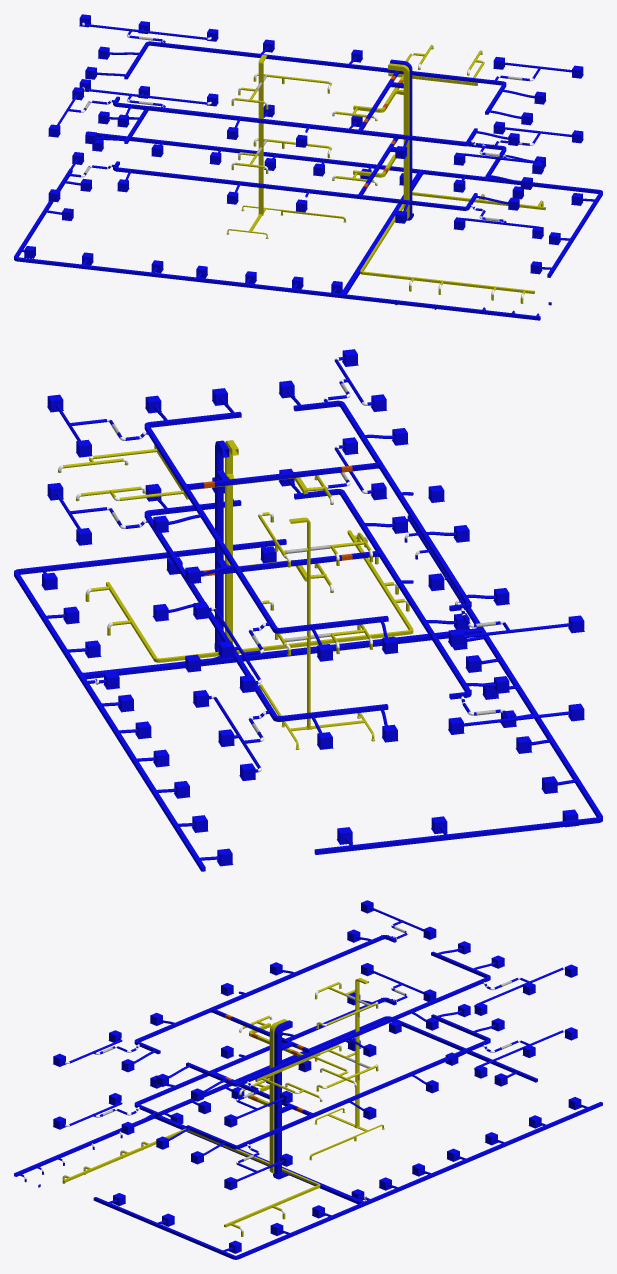
The picture shows the model from 3 angles, top to bottom: view 1: azimuth 30°, elevation 25°; view 2: azimuth 150°, elevation 25°; view 3: azimuth 270°, elevation 25°; orthographic projection. The views are drawn at different scales.
Visible parts, largest first — view 1: 1xcI3n9NLCzgLt5edbnYTc, 1Wf_Z9ah52ZRKuF8wFiSMt, 1_4iIms_n3uRXGvNhVHvCt, 1vad3qwmfAi81tXCFGYJoX, 24KYLmDjHE39Uig0jV5C6m; view 2: 1vad3qwmfAi81tXCFGYJoX, 0mlF_9kTL0AhtwZFQEFgCc, 2KBKwqlkbEiRkTzejpoLgT, 2udtEt$GX0eAK$9PuOVUf5, 2bs9Q8uUXF3hwbV_$5xWPB, 1SBgm1$o1DSw7F$9$3O8Sr; view 3: no part large enough to name.
Part boxes in pixels (bbox=[...]): 1xcI3n9NLCzgLt5edbnYTc: bbox=[130, 104, 239, 120]; 1Wf_Z9ah52ZRKuF8wFiSMt: bbox=[130, 169, 240, 185]; 1_4iIms_n3uRXGvNhVHvCt: bbox=[160, 42, 260, 57]; 1vad3qwmfAi81tXCFGYJoX: bbox=[341, 217, 393, 294]; 24KYLmDjHE39Uig0jV5C6m: bbox=[260, 54, 348, 67]; 1vad3qwmfAi81tXCFGYJoX: bbox=[233, 628, 477, 662]; 0mlF_9kTL0AhtwZFQEFgCc: bbox=[447, 820, 574, 839]; 2KBKwqlkbEiRkTzejpoLgT: bbox=[42, 552, 168, 571]; 2udtEt$GX0eAK$9PuOVUf5: bbox=[87, 658, 217, 678]; 2bs9Q8uUXF3hwbV_$5xWPB: bbox=[242, 630, 409, 652]; 1SBgm1$o1DSw7F$9$3O8Sr: bbox=[233, 467, 341, 484].
Bounding box in the file's own units: 36.25 × 10.92 × 37.46.
